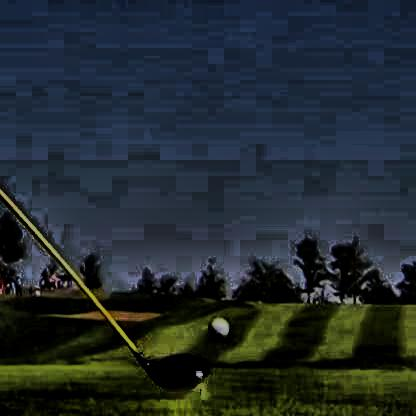golfball: (207, 315, 228, 336)
